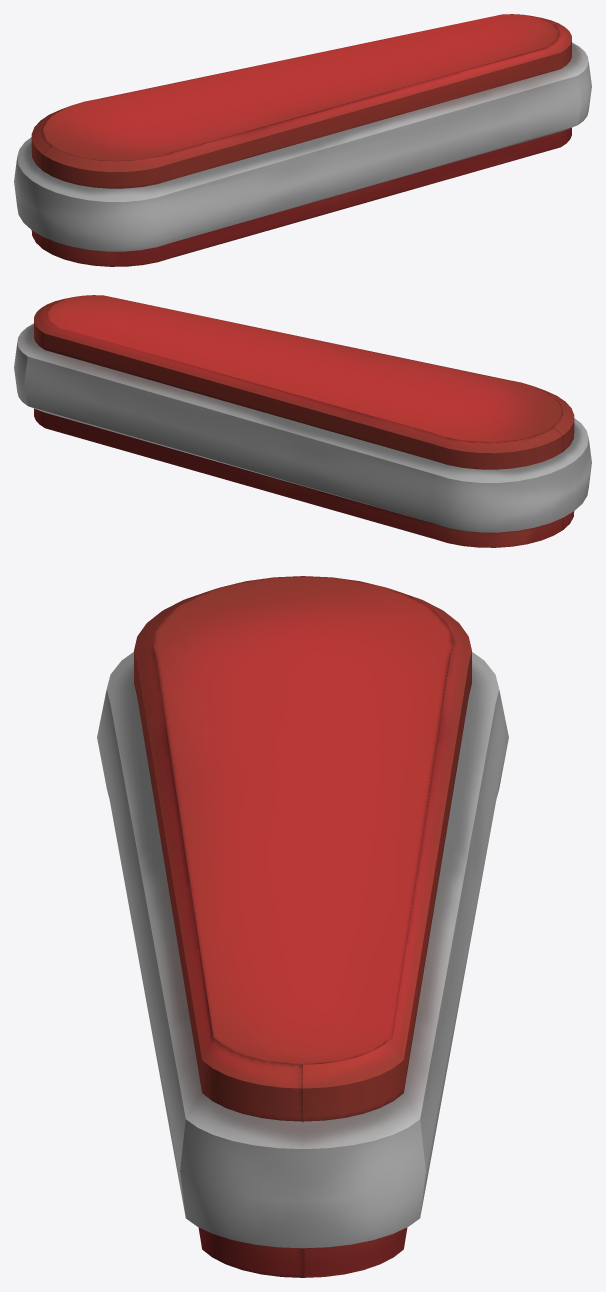
File: paddle.obj
3 renders of one model, top to bottom at view 1: azimuth 30°, elevation 25°; view 2: azimuth 150°, elevation 25°; view 3: azimuth 270°, elevation 25°, orthographic. The views are drawn at different scales.
Parts seen in each view (by area): view 1: Circle.009_Circle.003; view 2: Circle.009_Circle.003; view 3: Circle.009_Circle.003.
Part boxes in pixels (box(x1,y1,x2,y2)): Circle.009_Circle.003: box(14, 14, 591, 266); Circle.009_Circle.003: box(14, 295, 591, 547); Circle.009_Circle.003: box(97, 576, 508, 1277).
Bounding box in the file's own units: 9.32 × 1.62 × 3.01.
